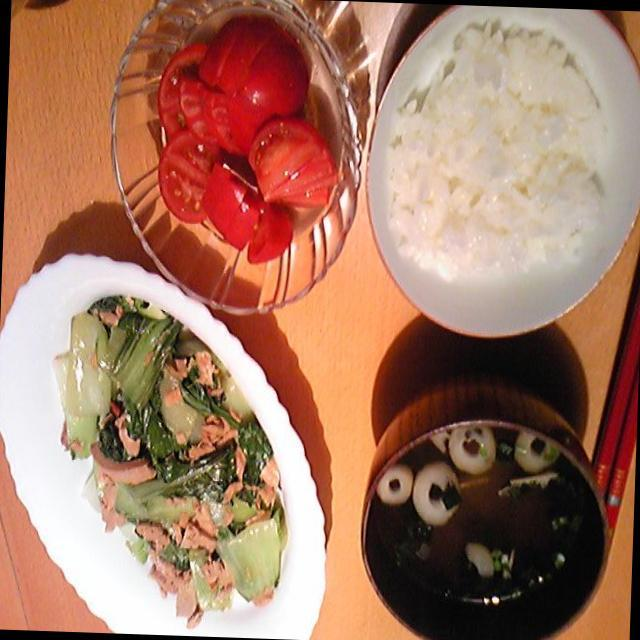Rice: (380, 17, 616, 302)
